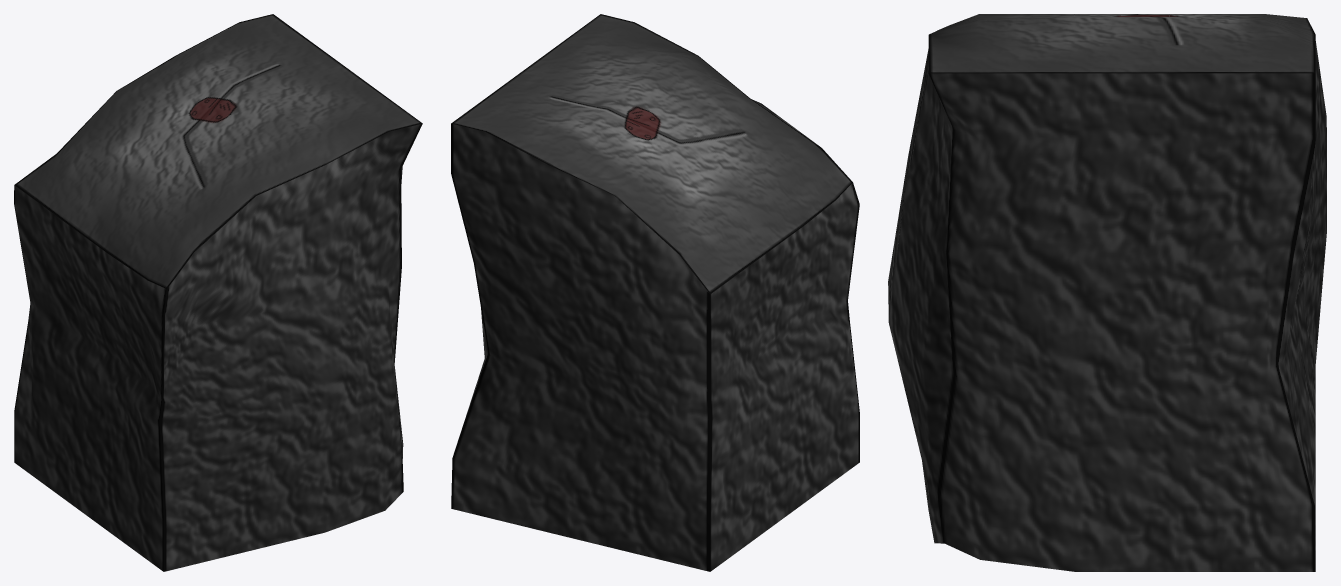
File: TallRock2.fbx
3 views of the same model, side by side, from view 1: azimuth 30°, elevation 25°; view 2: azimuth 150°, elevation 25°; view 3: azimuth 270°, elevation 25° (orthographic). The views are drawn at different scales.
Visible parts, largest first — view 1: TallRock2; view 2: TallRock2; view 3: TallRock2.
Boxes of the visible parts, x1,y1,x2,y2 form: TallRock2: (14, 14, 422, 571); TallRock2: (451, 14, 859, 571); TallRock2: (888, 14, 1326, 571).
Bounding box in the file's own units: 202 × 284 × 227.
1 material, 1 textured.
